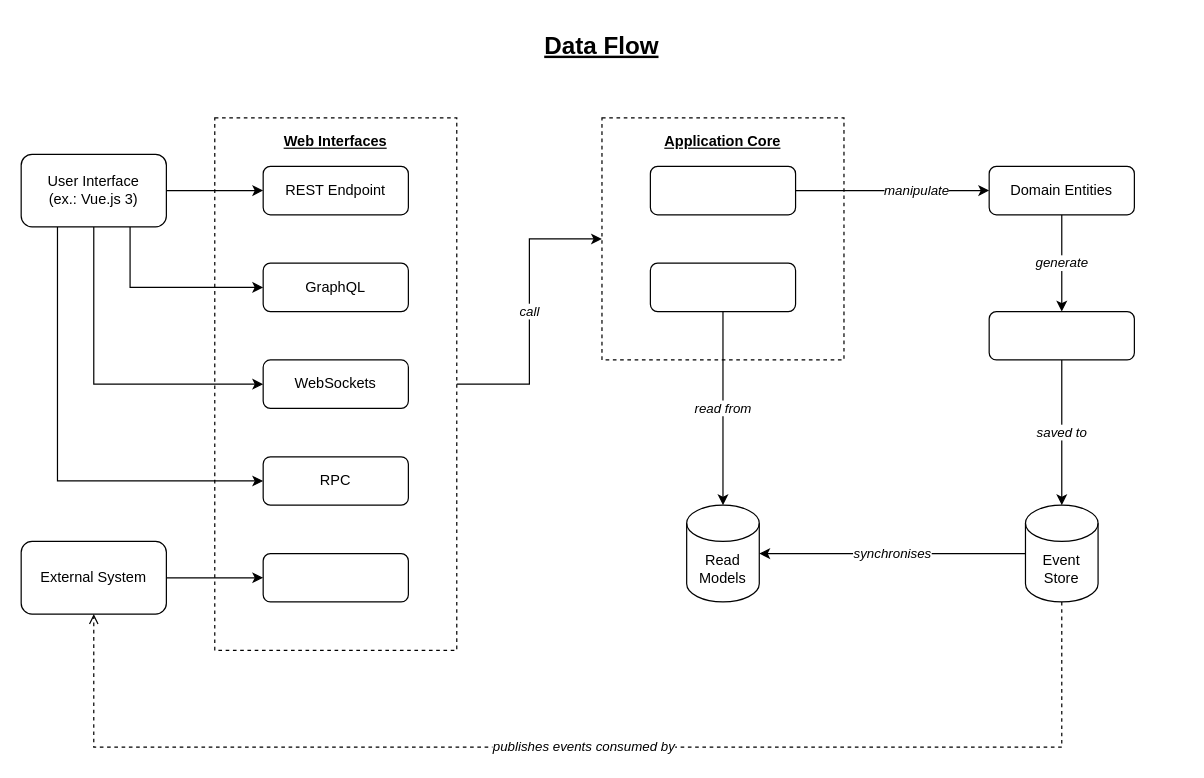
Image size: 1204x778. Some labels were removed from this diagram. The shapes that lost their labels are listed below. From the top down, each one's box as (x1, y1, x2, y2) in pixels, then its label:
(649, 165, 796, 215): Commands
(649, 262, 796, 312): Queries
(988, 310, 1134, 360): Domain Events
(262, 552, 408, 602): Message Consumers
